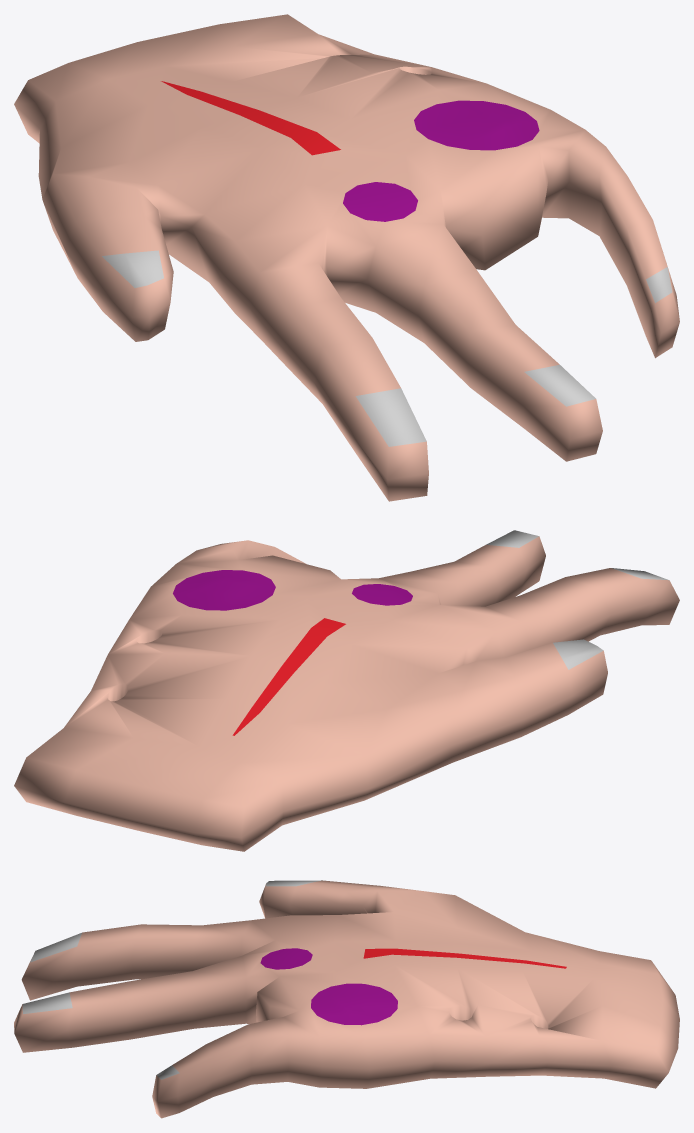
The model's file is sick hand.fbx.
3 renders of one model, top to bottom at view 1: azimuth 30°, elevation 25°; view 2: azimuth 150°, elevation 25°; view 3: azimuth 270°, elevation 25°, orthographic. The views are drawn at different scales.
Parts seen in each view (by area): view 1: Hand; view 2: Hand; view 3: Hand.
Boxes of the visible parts, box(x1,y1,x2,y2) form: Hand: box(14, 14, 679, 501); Hand: box(14, 530, 679, 851); Hand: box(14, 880, 679, 1118).
Size of the model in its own units: 155 by 43.48 by 255.
